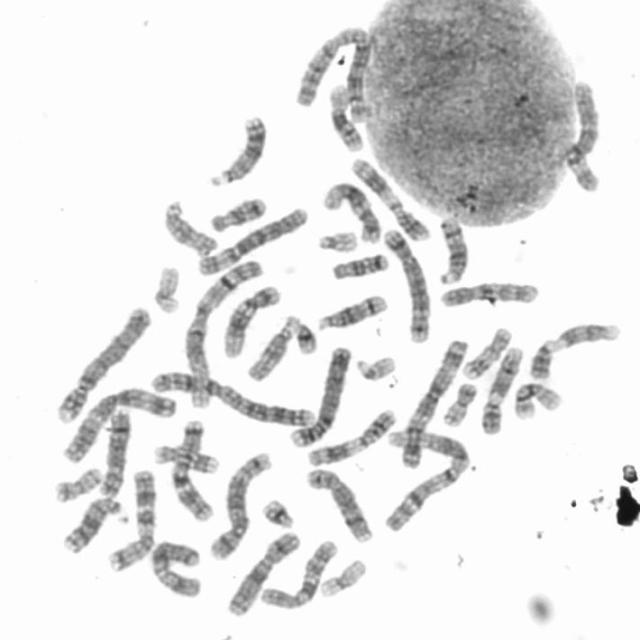A1: (179, 255, 264, 412), (377, 421, 473, 533)
A2: (144, 363, 318, 428), (288, 20, 375, 124)
A3: (396, 332, 472, 471), (56, 380, 179, 464)
B4: (49, 299, 153, 425), (284, 338, 353, 449)
B5: (203, 444, 274, 562), (376, 222, 433, 344)
C10: (254, 532, 340, 612), (434, 275, 542, 308)
C11: (345, 151, 434, 242), (300, 402, 400, 468)
C12: (216, 278, 283, 359), (316, 175, 382, 245)
C6: (191, 200, 310, 277), (558, 73, 605, 194)
C7: (101, 462, 160, 573), (167, 412, 216, 522)
C8: (299, 460, 375, 544), (93, 403, 133, 498)
C9: (524, 316, 624, 382), (474, 339, 527, 436)
D13: (201, 108, 268, 188), (56, 490, 128, 555)
D14: (311, 287, 390, 332), (431, 211, 470, 285)
D15: (241, 310, 299, 383), (157, 194, 220, 257)
E16: (322, 77, 366, 152), (508, 375, 564, 421)
E17: (456, 320, 514, 380), (147, 437, 222, 476)
E18: (202, 190, 268, 234), (326, 246, 390, 281)
F19: (314, 552, 368, 600), (146, 258, 184, 315)
F20: (48, 460, 104, 504), (436, 375, 481, 428)
G21: (256, 491, 297, 530), (286, 312, 319, 356)
G22: (349, 348, 398, 382), (311, 224, 361, 254)
X: (221, 524, 303, 619), (144, 534, 206, 600)
